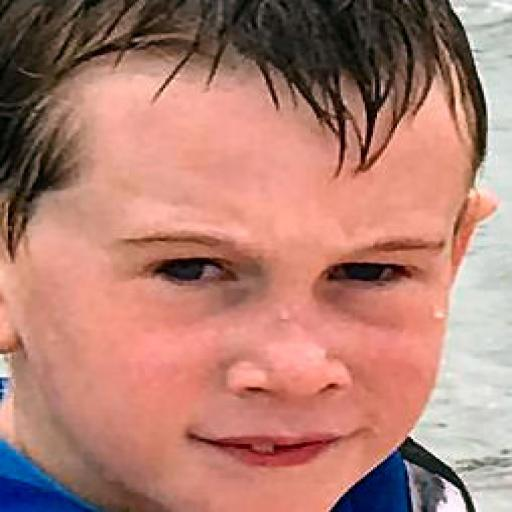Autism: (14, 5, 512, 512)
